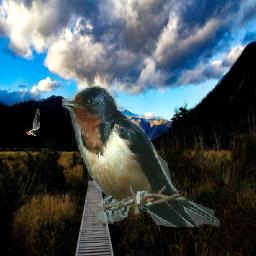Swallow: (62, 85, 220, 227)
Woodpecker: (26, 110, 40, 137)
